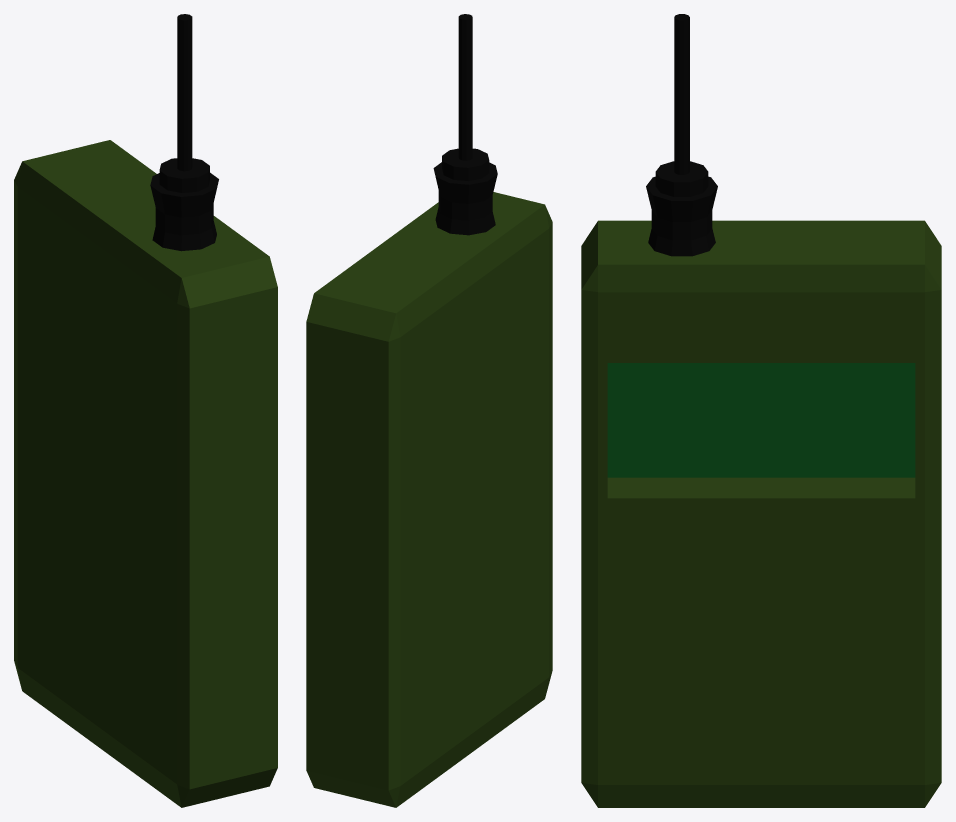
The model's file is Mic.glb.
3 views of the same model, side by side, from view 1: azimuth 30°, elevation 25°; view 2: azimuth 150°, elevation 25°; view 3: azimuth 270°, elevation 25° (orthographic). The views are drawn at different scales.
Parts seen in each view (by area): view 1: Cube, Cylinder; view 2: Cube, Cylinder; view 3: Cube, Cylinder.
Part boxes in pixels (left/top/right/bottom): Cube: left=14, top=140, right=277, bottom=807; Cylinder: left=150, top=14, right=218, bottom=251; Cube: left=306, top=192, right=552, bottom=807; Cylinder: left=433, top=14, right=497, bottom=235; Cube: left=581, top=220, right=941, bottom=807; Cylinder: left=646, top=14, right=717, bottom=256.
Size of the model in its own units: 0.4038 by 2.98 by 1.27.
